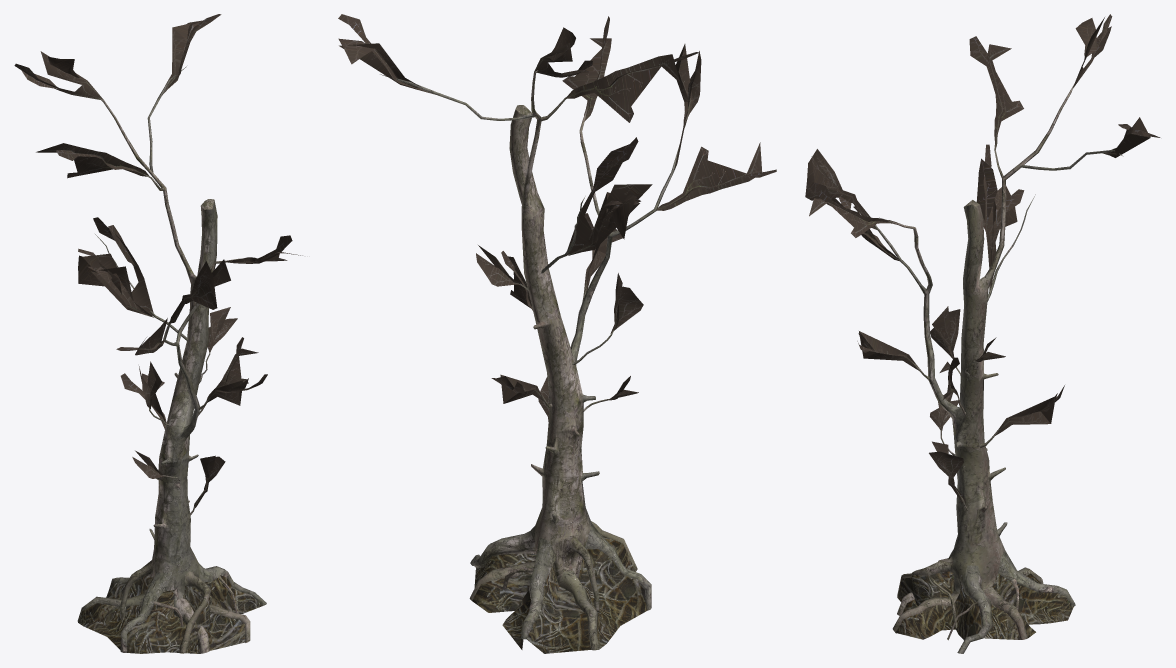
The model's file is SM_Tree_05.fbx.
The picture shows the model from 3 angles, left to right: view 1: azimuth 30°, elevation 25°; view 2: azimuth 150°, elevation 25°; view 3: azimuth 270°, elevation 25°; orthographic projection. The views are drawn at different scales.
Parts seen in each view (by area): view 1: SM_Tree_05; view 2: SM_Tree_05; view 3: SM_Tree_05.
Boxes of the visible parts, x1,y1,x2,y2 form: SM_Tree_05: (14,14,302,653); SM_Tree_05: (338,14,776,653); SM_Tree_05: (805,14,1160,653).
Bounding box in the file's own units: 755 × 932 × 1658.
Materials: 3 (3 with a texture image).
